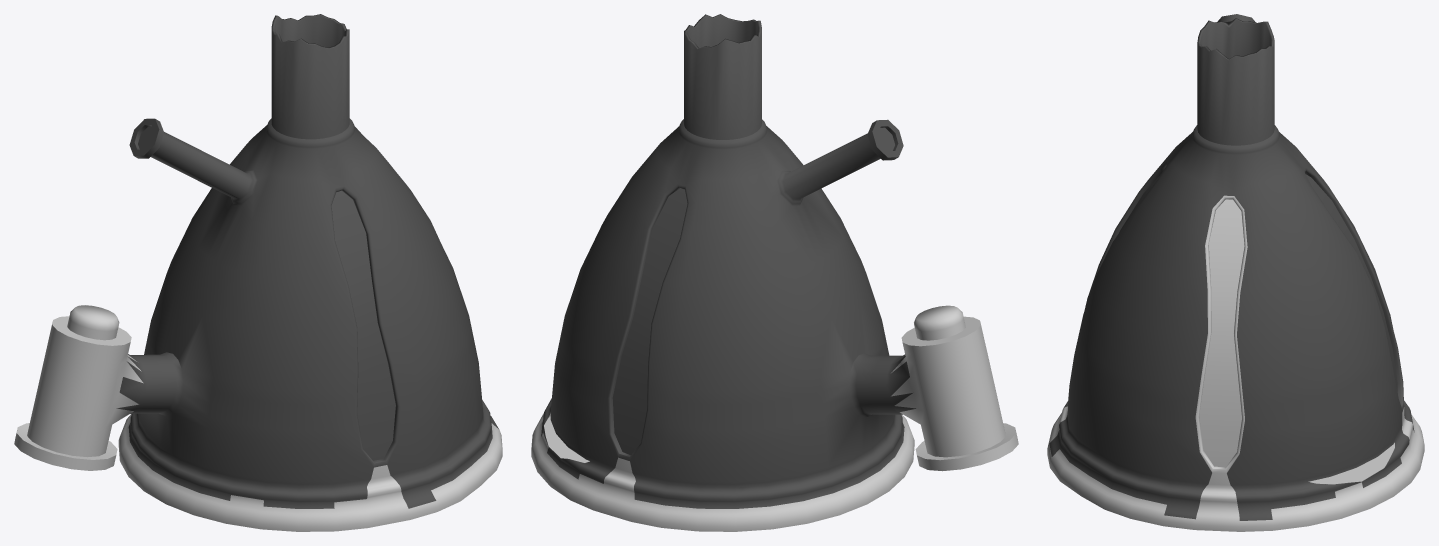
The model's file is GrugpotRemastered.fbx.
The picture shows the model from 3 angles, left to right: view 1: azimuth 30°, elevation 25°; view 2: azimuth 150°, elevation 25°; view 3: azimuth 270°, elevation 25°; orthographic projection.
Parts seen in each view (by area): view 1: GrugPot, Button; view 2: GrugPot, Button; view 3: GrugPot.
Boxes of the visible parts, <box> form: GrugPot: <box>14,14,502,531</box>; Button: <box>67,305,119,340</box>; GrugPot: <box>531,14,1018,531</box>; Button: <box>914,305,965,340</box>; GrugPot: <box>1047,14,1424,531</box>.
Bounding box in the file's own units: 304 × 273 × 222.
